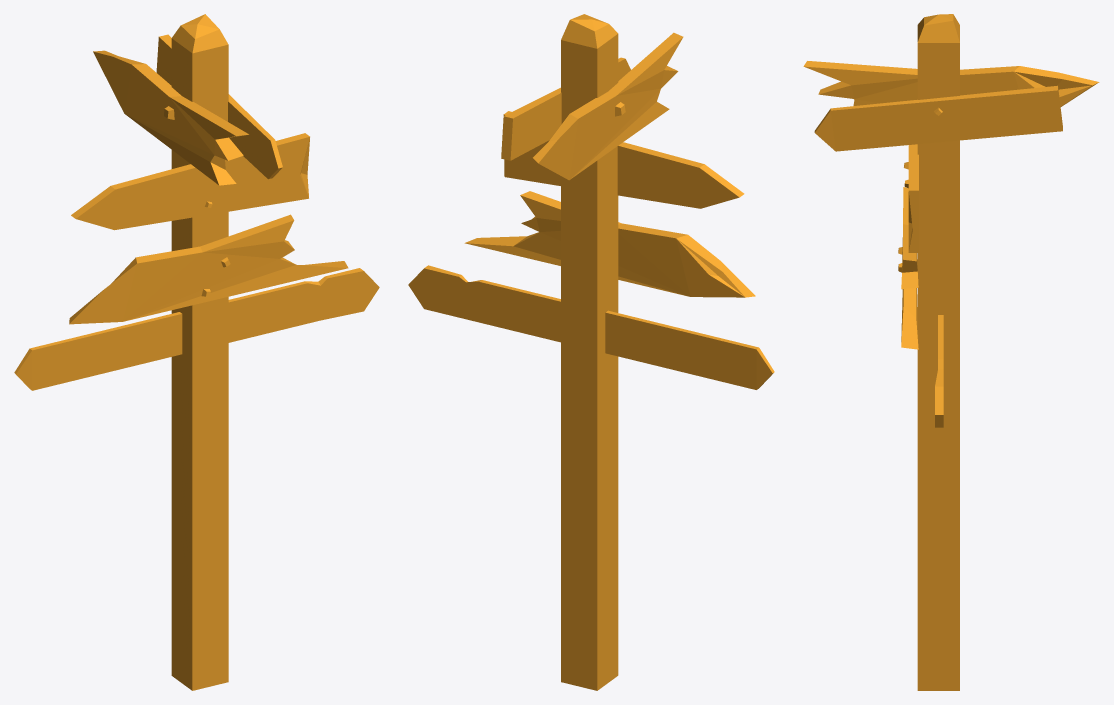
The model's file is SM_Signpost_B_Fantasy.fbx.
3 renders of one model, left to right at view 1: azimuth 30°, elevation 25°; view 2: azimuth 150°, elevation 25°; view 3: azimuth 270°, elevation 25°, orthographic.
Visible parts, largest first — view 1: signpost-b-fantasy; view 2: signpost-b-fantasy; view 3: signpost-b-fantasy.
Boxes of the visible parts, bbox=[...] form: signpost-b-fantasy: bbox=[14, 14, 379, 690]; signpost-b-fantasy: bbox=[408, 14, 774, 690]; signpost-b-fantasy: bbox=[803, 14, 1099, 690].
Size of the model in its own units: 1 by 1.73 by 0.6975.
